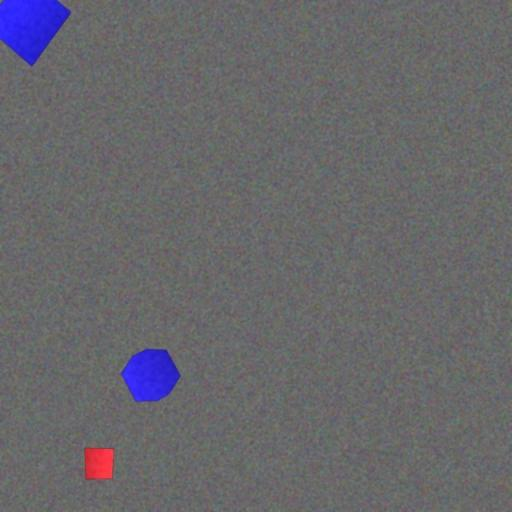BLUE_SQUARE: (0, 0, 72, 67)
RED_SQUARE: (84, 447, 114, 480)
